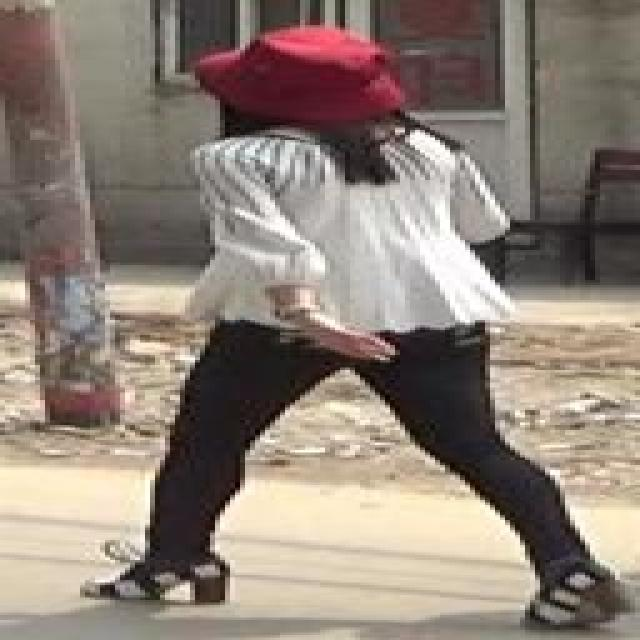adult: (89, 39, 629, 625)
